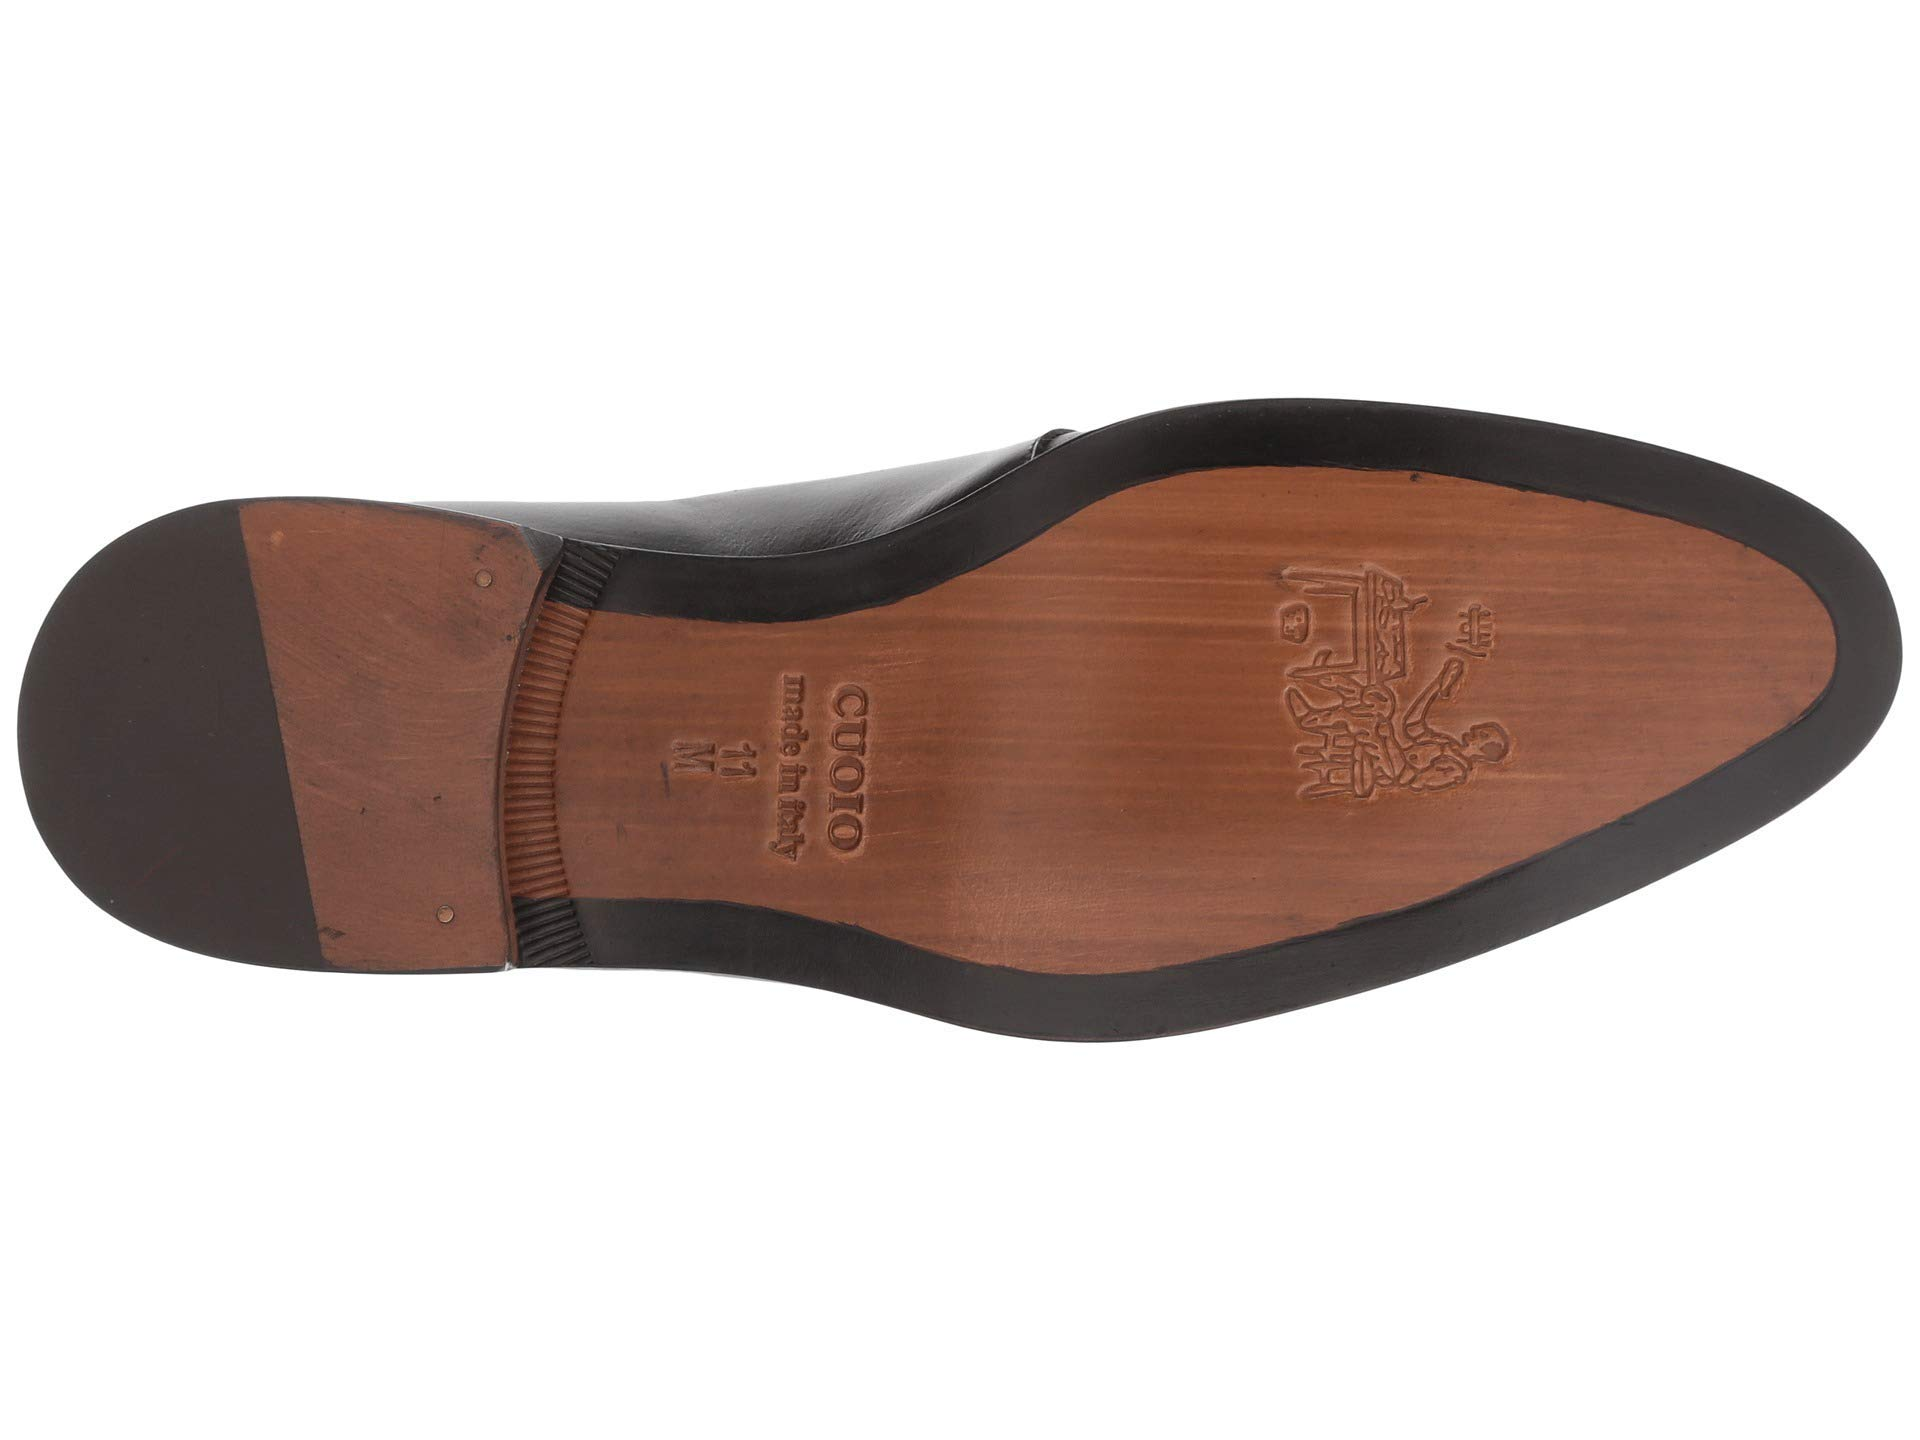circle: (623, 656, 918, 909)
text: (623, 656, 918, 909)
